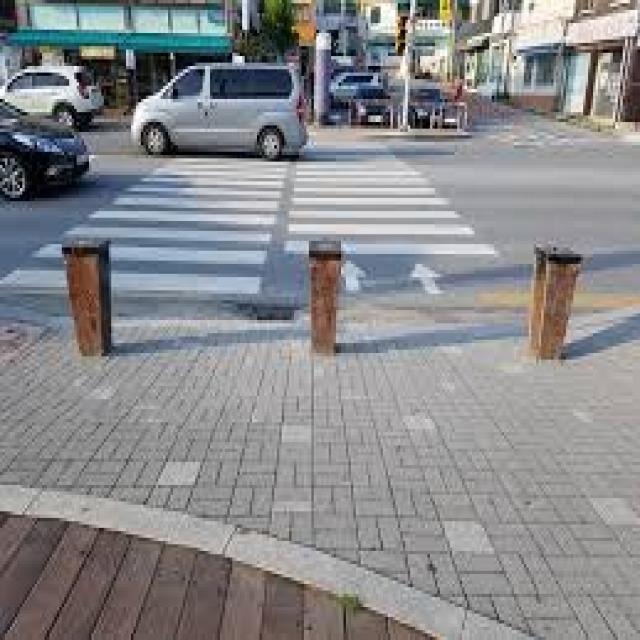bollard: (58, 222, 120, 365), (524, 236, 586, 372), (304, 232, 352, 360)
